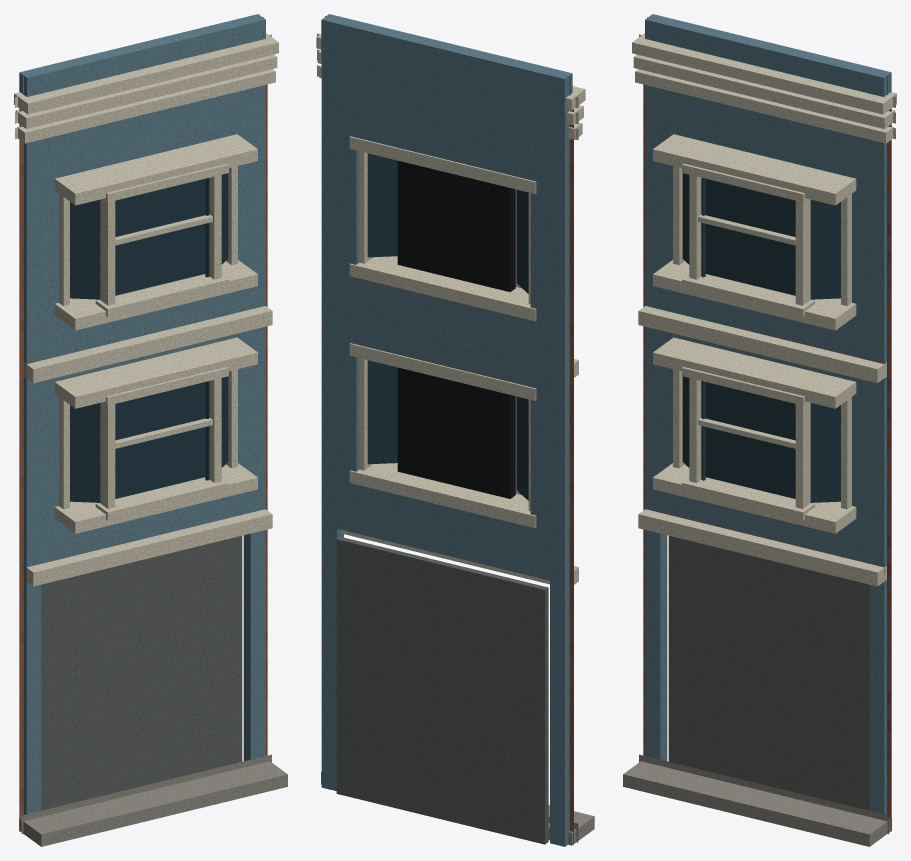
The model's file is VICT28_lod2.glb.
The picture shows the model from 3 angles, left to right: view 1: azimuth 30°, elevation 25°; view 2: azimuth 150°, elevation 25°; view 3: azimuth 330°, elevation 25°; orthographic projection.
Parts seen in each view (by area): view 1: VICT28_FRONT_LOD2; view 2: VICT28_FRONT_LOD2; view 3: VICT28_FRONT_LOD2.
Part boxes in pixels (<box>): VICT28_FRONT_LOD2: <box>14,14,287,846</box>; VICT28_FRONT_LOD2: <box>316,14,594,846</box>; VICT28_FRONT_LOD2: <box>623,14,896,846</box>.
Bounding box in the file's own units: 3.44 × 9.66 × 0.735.
Materials: 7 (5 with a texture image).
